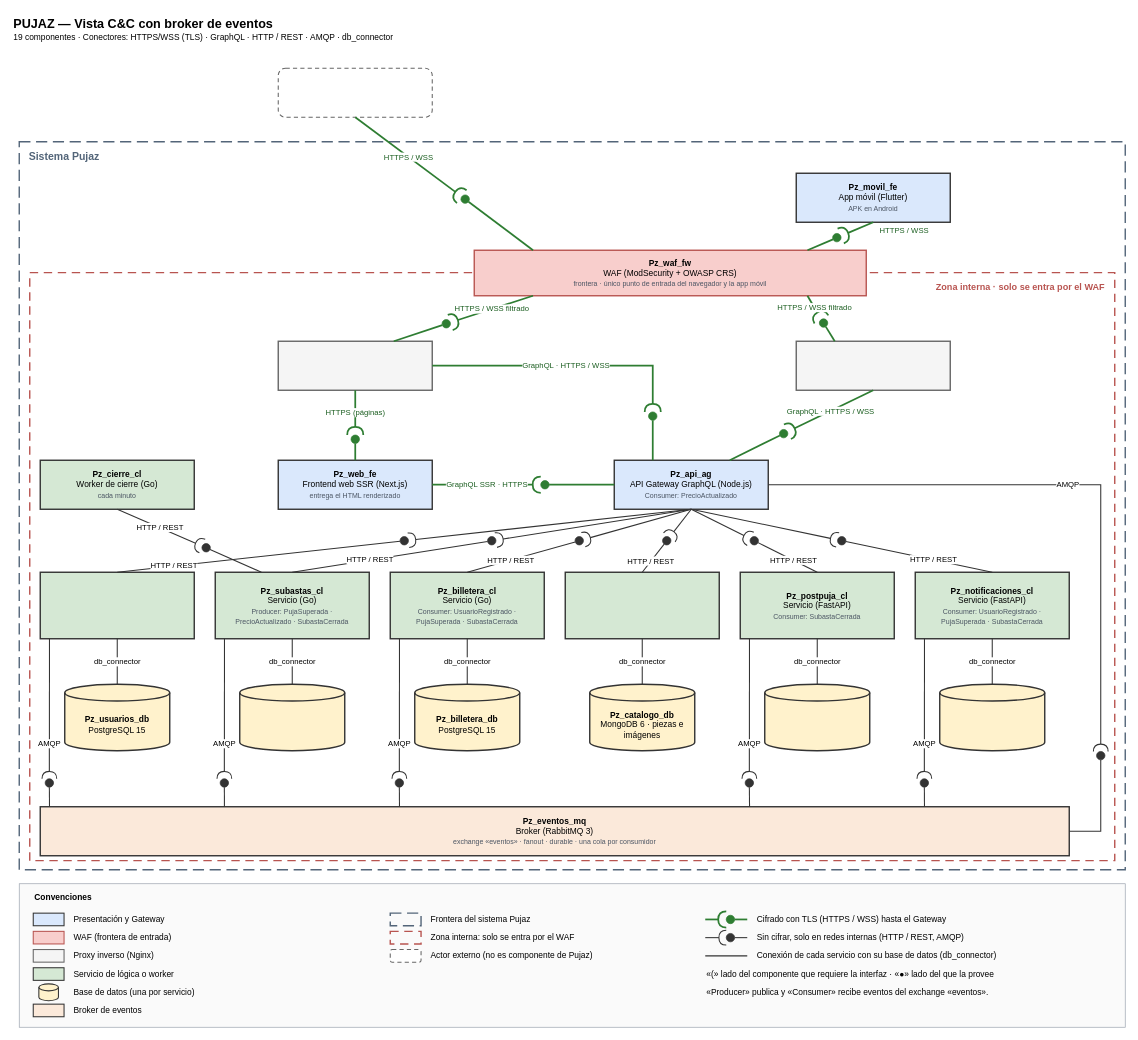
Some shapes in this 1138 by 1040 pixel diagram are drawn without their labels. Here are the shapes that lost their labels. From the top down, the box of each, then its label:
(277, 67, 432, 117): «externo» Navegador web no es componente de Pujaz
(277, 340, 433, 391): Pz_web_rp Proxy inverso (Nginx) / → Pz_web_fe · /graphql → Pz_api_ag
(795, 340, 951, 391): Pz_movil_rp Proxy inverso (Nginx) /graphql → Pz_api_ag
(39, 571, 195, 639): Pz_usuarios_cl Servicio (Spring Boot) Producer: UsuarioRegistrado
(564, 571, 720, 639): Pz_catalogo_cl Servicio (FastAPI) fichas e imágenes de las piezas · sin eventos
(239, 683, 345, 751): Pz_subastas_db PostgreSQL 15
(764, 683, 870, 751): Pz_postpuja_db MongoDB 6
(939, 683, 1045, 751): Pz_notificaciones_db Redis
